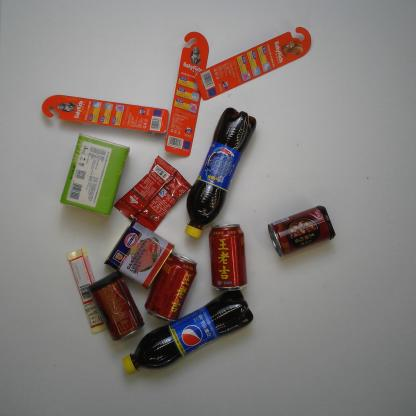Canned Food: (102, 218, 176, 289), (87, 271, 145, 341), (267, 204, 337, 257)
Chocolate: (65, 247, 110, 334)
Drink: (121, 288, 254, 374), (184, 106, 257, 238), (142, 251, 198, 324), (207, 222, 249, 292)
Instant Drink: (111, 153, 194, 233)
Personal Hygiene: (194, 25, 312, 101), (164, 31, 209, 157), (41, 94, 170, 135)
Tissue: (58, 132, 132, 216)
